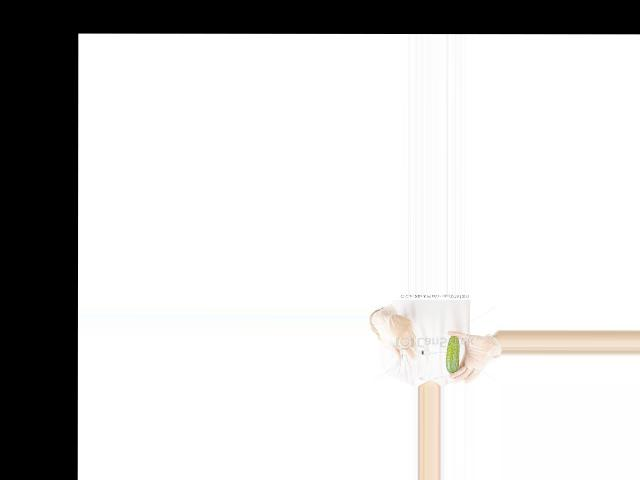cucumber: (446, 334, 460, 373)
